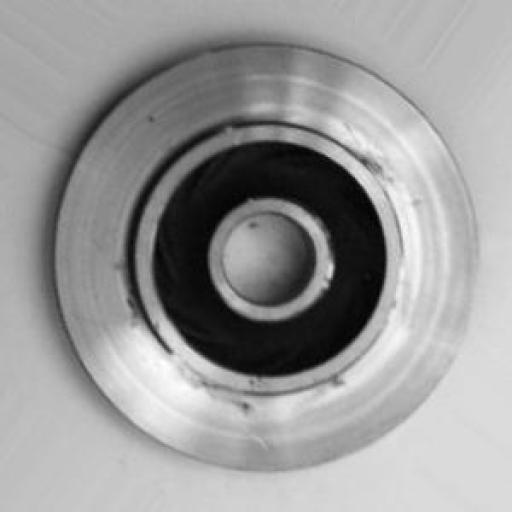defect: (108, 132, 420, 441)
